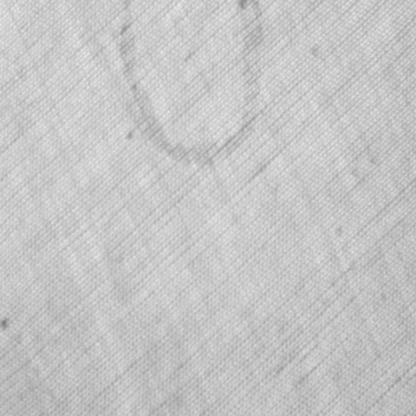oil spot: (118, 0, 266, 168)
